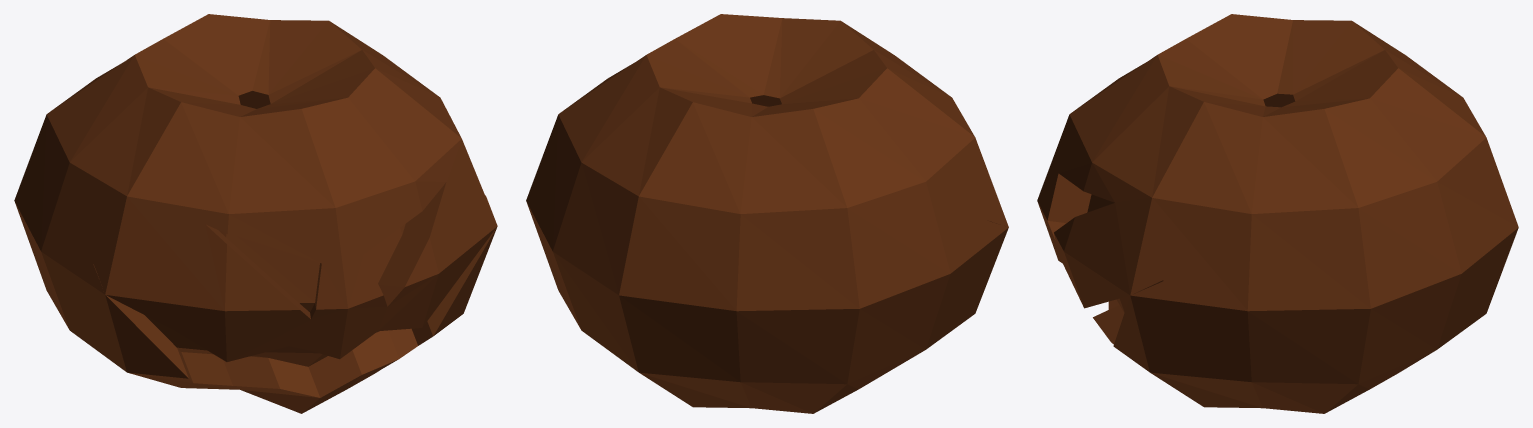
Rendered from pumpkin001_pumplkin_0_lev1.glb.
3 views of the same model, side by side, from view 1: azimuth 30°, elevation 25°; view 2: azimuth 150°, elevation 25°; view 3: azimuth 270°, elevation 25° (orthographic).
Visible parts, largest first — view 1: pumpkin001_pumplkin_0_lev1; view 2: pumpkin001_pumplkin_0_lev1; view 3: pumpkin001_pumplkin_0_lev1.
Boxes of the visible parts, x1,y1,x2,y2 form: pumpkin001_pumplkin_0_lev1: (14,14,497,413); pumpkin001_pumplkin_0_lev1: (526,14,1008,413); pumpkin001_pumplkin_0_lev1: (1037,14,1518,413).
Size of the model in its own units: 0.3556 by 0.2607 by 0.3728.
